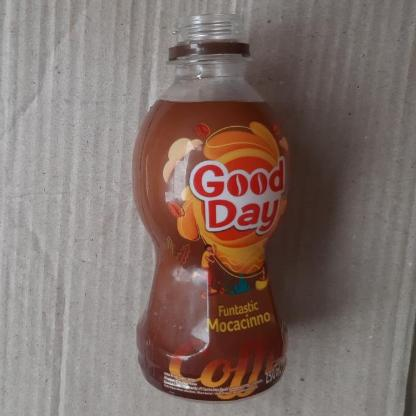Plastic Bottle: (132, 16, 296, 404)
